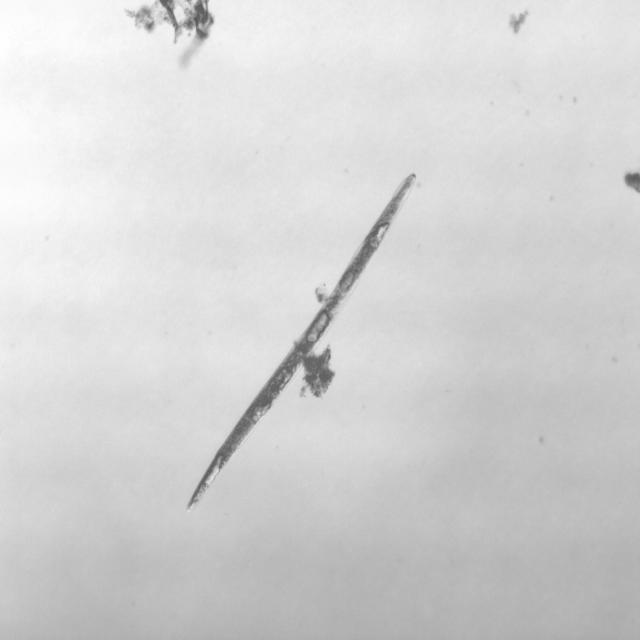Pratylenchus: (172, 165, 423, 527)
